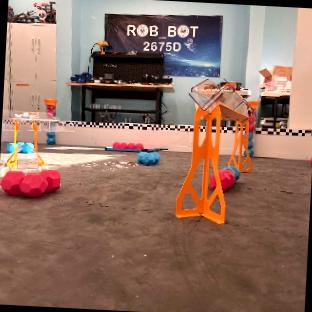V5_BLUE: (137, 152, 159, 163), (16, 142, 33, 152), (227, 166, 239, 178), (247, 133, 252, 154), (47, 131, 54, 142)
V5_RED: (1, 170, 60, 196), (113, 143, 141, 147), (248, 115, 253, 131)
